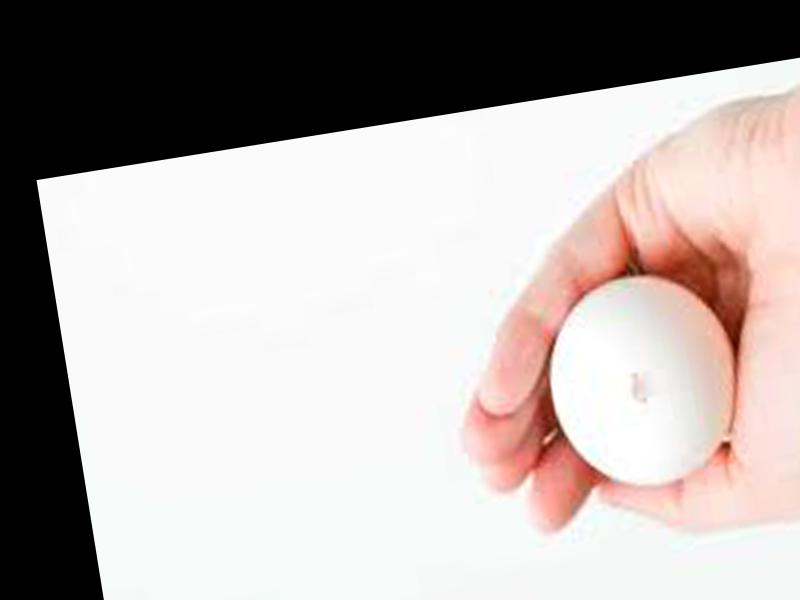Eggs: (535, 266, 747, 492)
